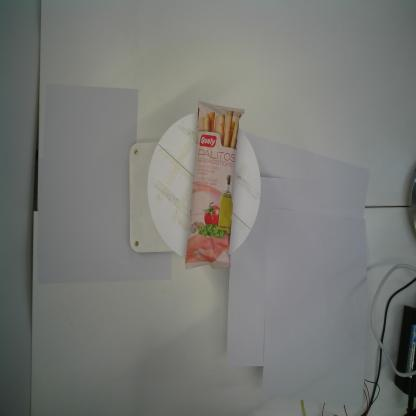Dessert: (186, 99, 245, 272)
